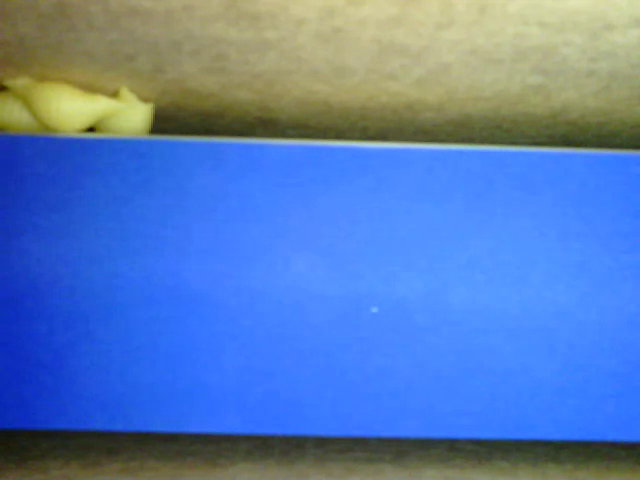shell: (1, 76, 127, 131), (95, 86, 155, 140), (1, 91, 51, 134)
